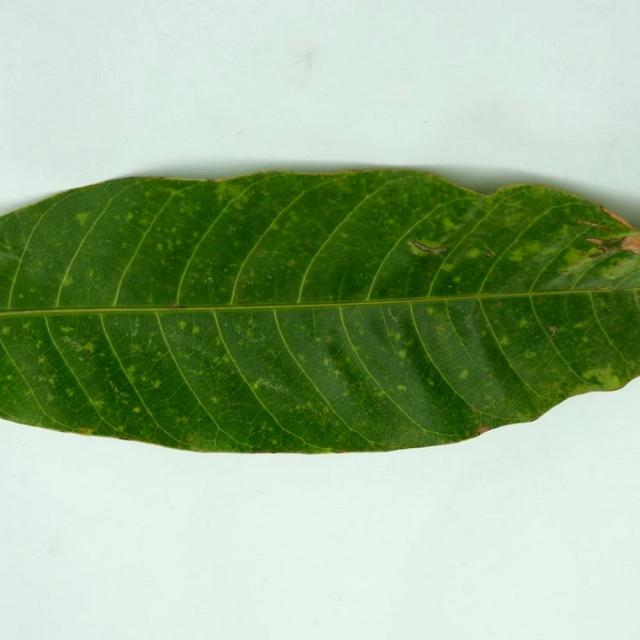Mango: (0, 170, 639, 452)
Powdery_Mildew: (579, 365, 624, 388), (519, 240, 545, 256), (465, 241, 482, 263), (457, 365, 474, 384), (440, 216, 458, 232), (74, 211, 90, 226), (60, 275, 75, 287), (441, 263, 456, 272), (76, 427, 95, 434), (82, 342, 94, 353), (232, 201, 245, 211), (522, 350, 536, 359), (518, 318, 530, 328), (164, 239, 176, 249), (271, 222, 283, 232), (177, 320, 188, 330), (126, 365, 136, 375), (499, 337, 510, 346), (59, 326, 73, 333), (389, 332, 401, 340), (247, 326, 254, 339), (151, 380, 161, 389), (192, 325, 202, 334), (125, 212, 134, 222), (212, 356, 222, 365), (396, 384, 407, 392), (397, 349, 406, 358), (322, 357, 331, 366), (1, 326, 10, 335), (252, 381, 261, 390), (452, 276, 462, 284), (131, 344, 141, 352), (426, 307, 436, 315), (321, 446, 334, 452), (66, 389, 75, 397), (287, 259, 296, 267), (375, 390, 384, 398), (221, 355, 230, 363), (227, 225, 236, 233), (94, 400, 104, 407), (48, 377, 56, 385), (38, 356, 46, 364), (47, 394, 55, 402), (35, 340, 43, 348), (267, 350, 275, 358), (210, 396, 219, 403), (313, 336, 322, 343), (248, 316, 255, 325), (427, 379, 434, 387), (298, 354, 305, 362), (322, 406, 329, 414), (195, 369, 203, 376), (326, 294, 334, 301), (205, 276, 213, 283), (132, 407, 141, 413), (358, 328, 365, 335), (157, 243, 164, 250), (355, 320, 362, 327), (192, 232, 199, 239), (88, 269, 94, 277), (342, 391, 349, 397), (271, 439, 278, 445), (141, 375, 147, 381), (18, 293, 24, 299), (6, 375, 12, 381), (187, 435, 193, 441), (267, 274, 272, 280), (224, 268, 228, 272)
